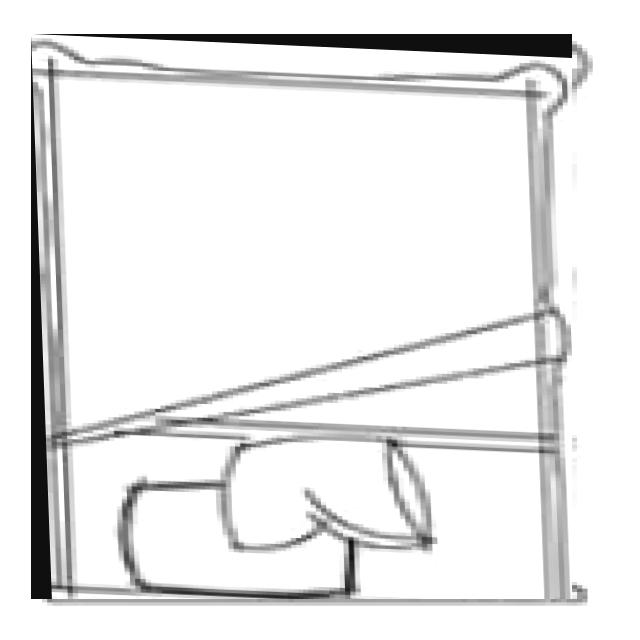bed: (31, 34, 572, 599)
